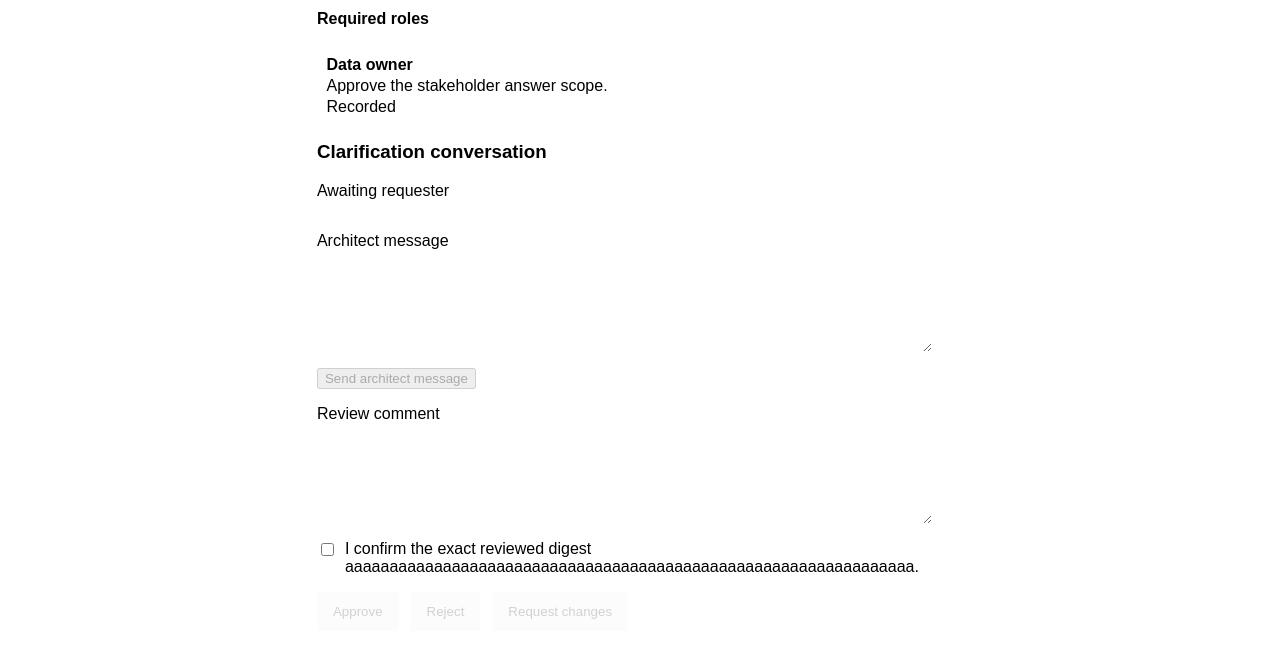
Test: typed intent approval submits the exact reviewed digest and request revision
This screenshot has width=1280, height=645.
(page scrolled)
Click the checkbox labelled "I confirm the exact reviewed digest": (327,550) [321, 543, 334, 556]
(page scrolled)
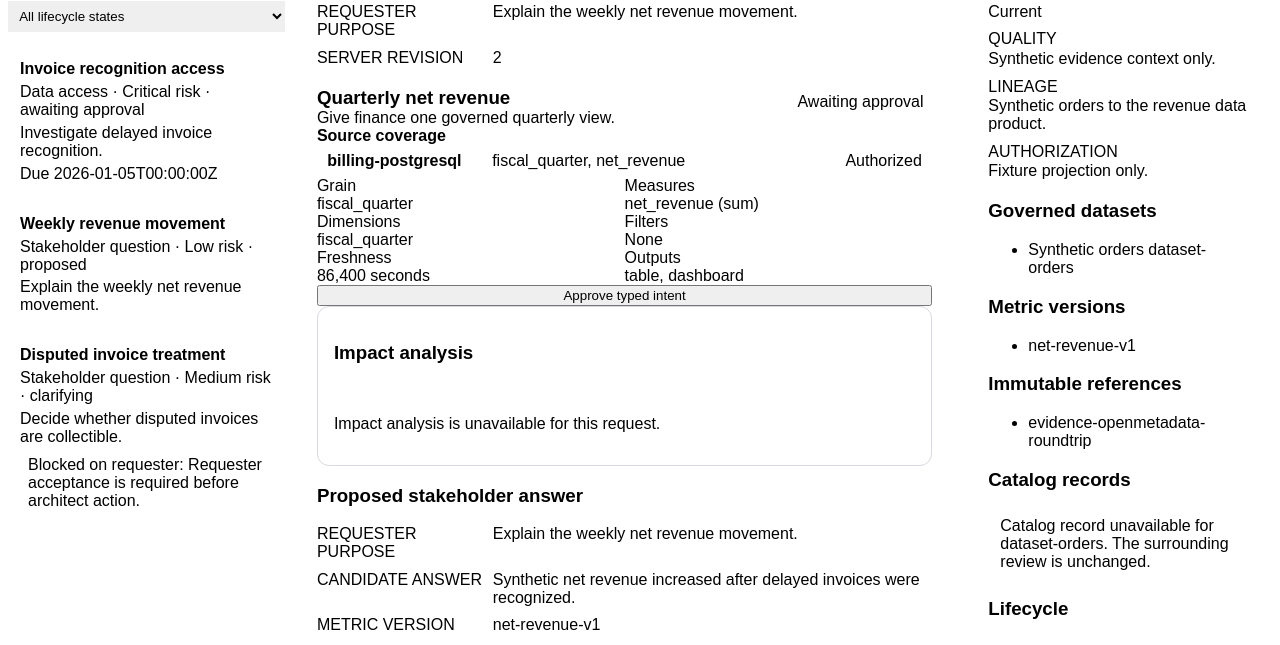
Click the button "Approve typed intent": (625,296) [317, 285, 932, 306]
(page scrolled)
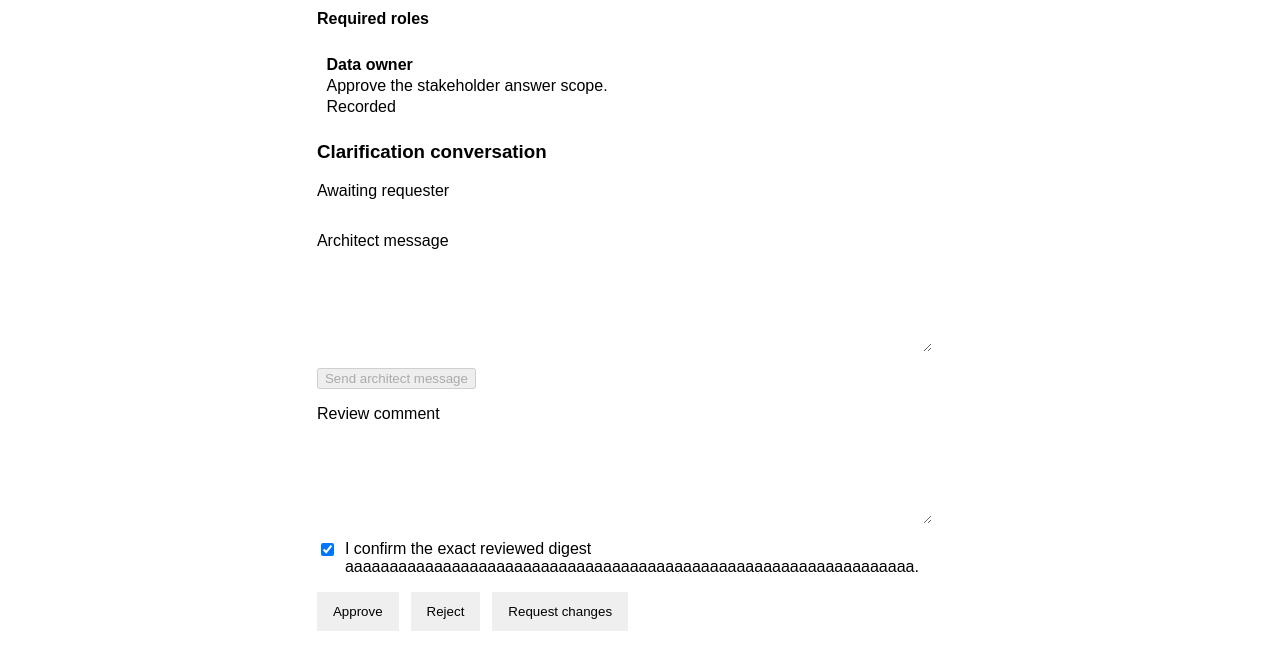
Check: the button "Approve" is enabled, box [317, 592, 399, 631]
